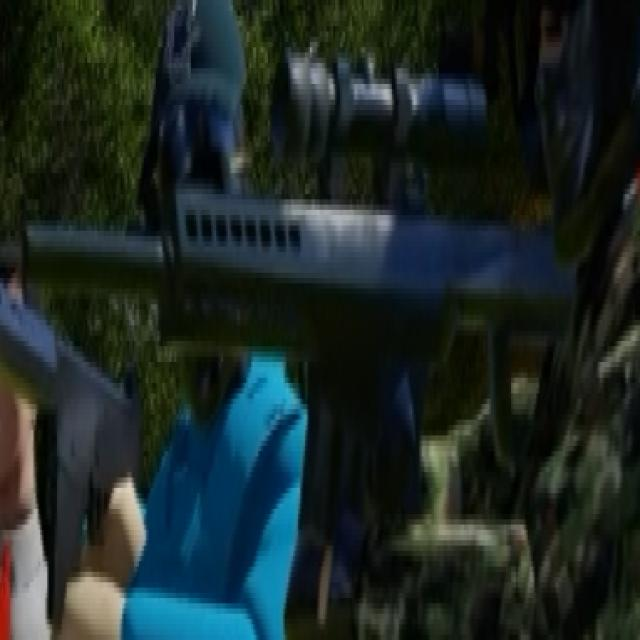RifleTel: (12, 31, 596, 591)
